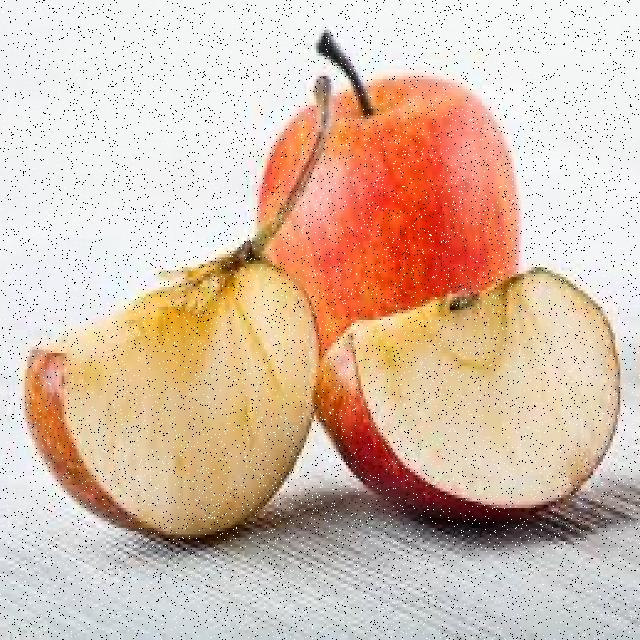Apple: (20, 248, 322, 545), (314, 265, 618, 522), (256, 71, 519, 332)
